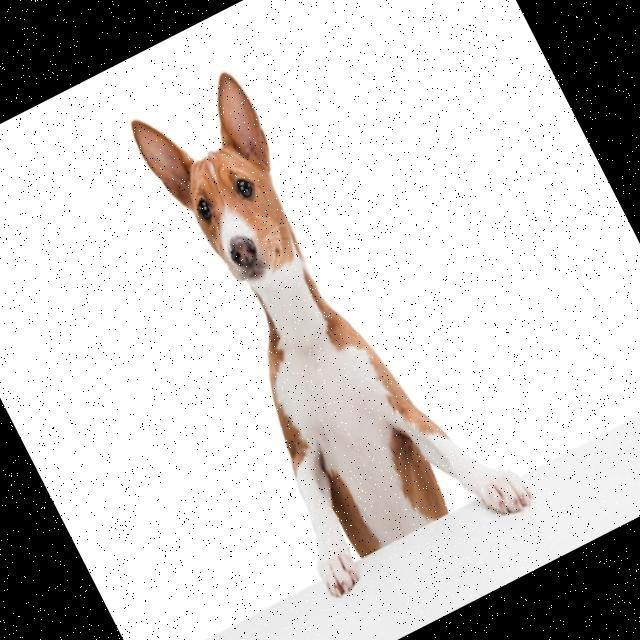Dog: (95, 35, 536, 606)
